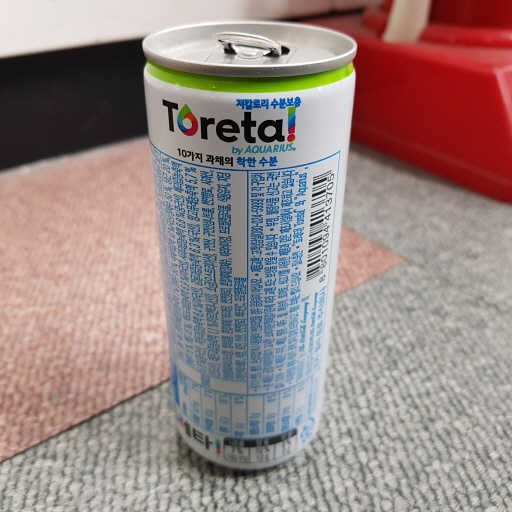Metal_0: (139, 21, 357, 475)
